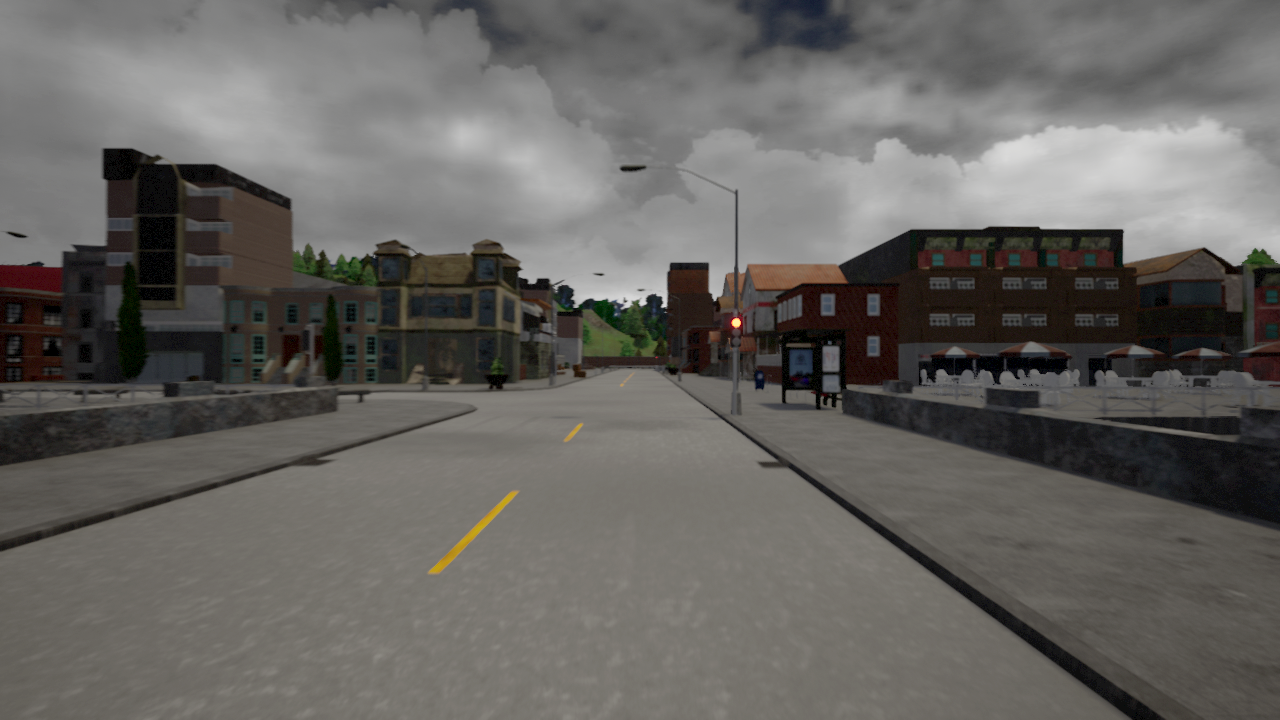red: (730, 316, 743, 348)
